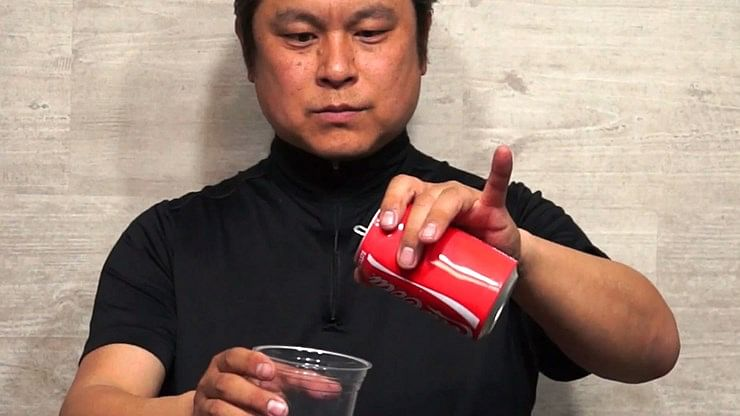can: (350, 195, 521, 344)
